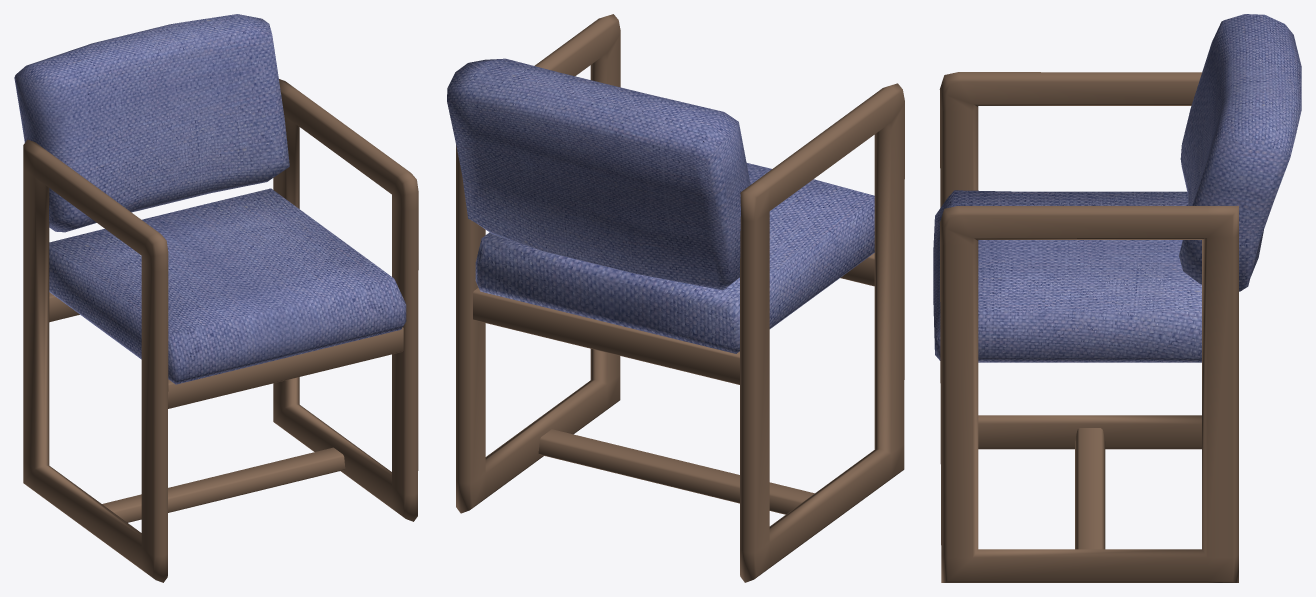
Rendered from chair1.glb.
3 views of the same model, side by side, from view 1: azimuth 30°, elevation 25°; view 2: azimuth 150°, elevation 25°; view 3: azimuth 270°, elevation 25° (orthographic). The views are drawn at different scales.
Parts seen in each view (by area): view 1: Chair; view 2: Chair; view 3: Chair.
Part boxes in pixels (x1=…): Chair: x1=14, y1=14, x2=418, y2=582; Chair: x1=447, y1=14, x2=904, y2=582; Chair: x1=933, y1=14, x2=1301, y2=582.
Size of the model in its own units: 0.54 by 0.7975 by 0.5935.
1 material, 1 textured.
